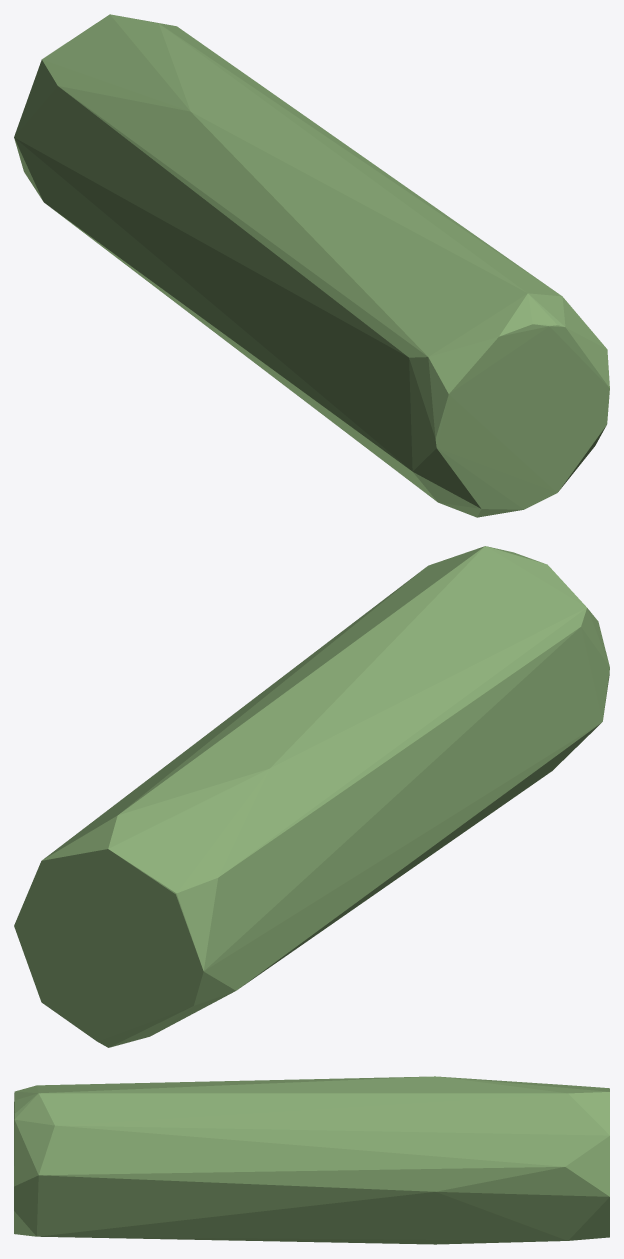
Rendered from food_beverage_bottledWater_g01.glb.
3 renders of one model, top to bottom at view 1: azimuth 30°, elevation 25°; view 2: azimuth 150°, elevation 25°; view 3: azimuth 270°, elevation 25°, orthographic. The views are drawn at different scales.
Visible parts, largest first — view 1: geometry_0; view 2: geometry_0; view 3: geometry_0.
Part boxes in pixels (box(x1,y1,x2,y2)): geometry_0: box(14, 14, 609, 517); geometry_0: box(14, 546, 609, 1047); geometry_0: box(14, 1076, 609, 1244).
Bounding box in the file's own units: 0.1339 × 0.1378 × 0.48.
